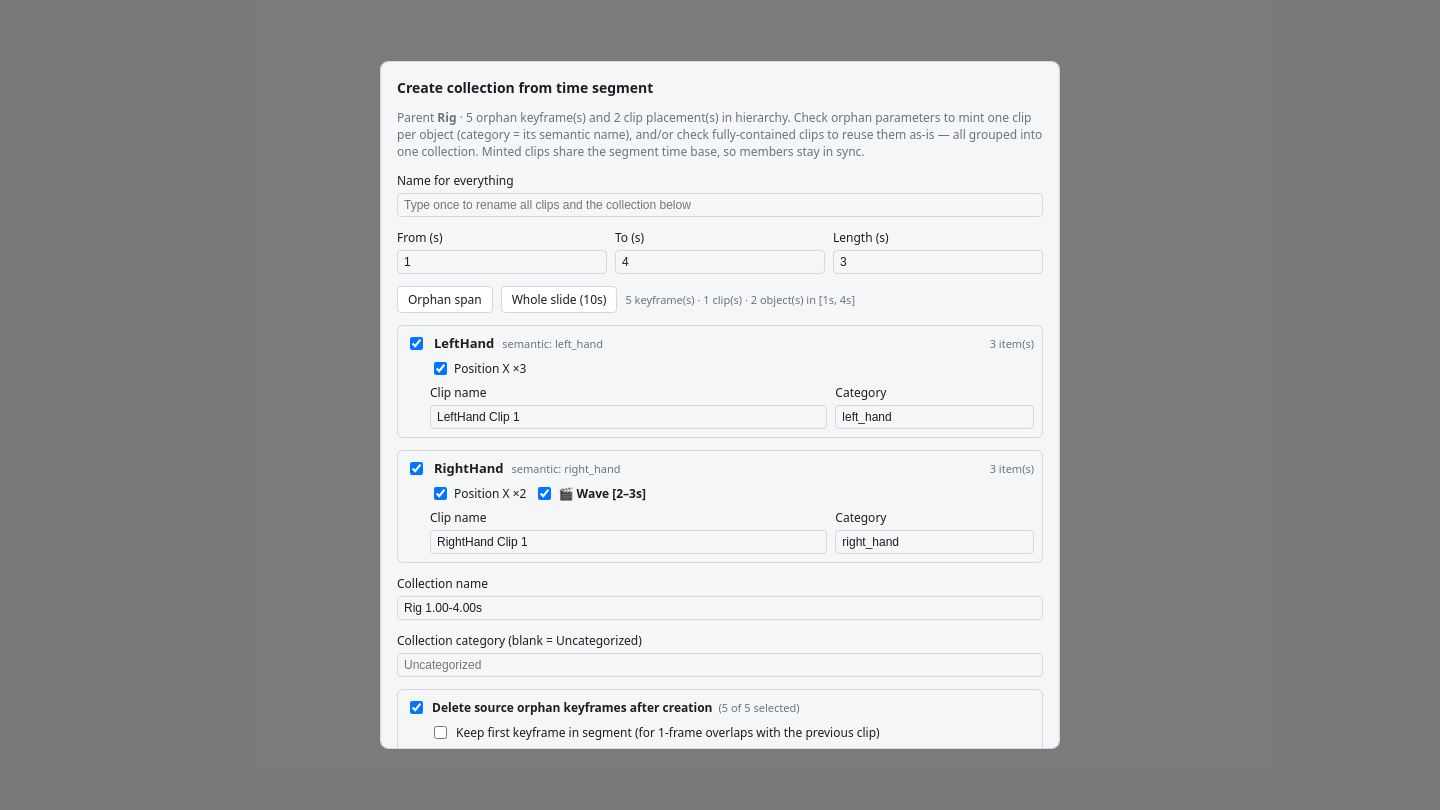
it: TimeSegmentToCollectionModal › blocks keyframes + clip on the same object with a conflict message
The width and height of the screenshot is (1440, 810).
Expected: the element with test id "segment-object-nB" is shown, left=397, top=450, right=1043, bottom=563
# resolving one side re-enables
Click the checkbox with test id "segment-param-nB-property:positionX". click: click(440, 493)
box: left=434, top=487, right=447, bottom=500
(page scrolled)
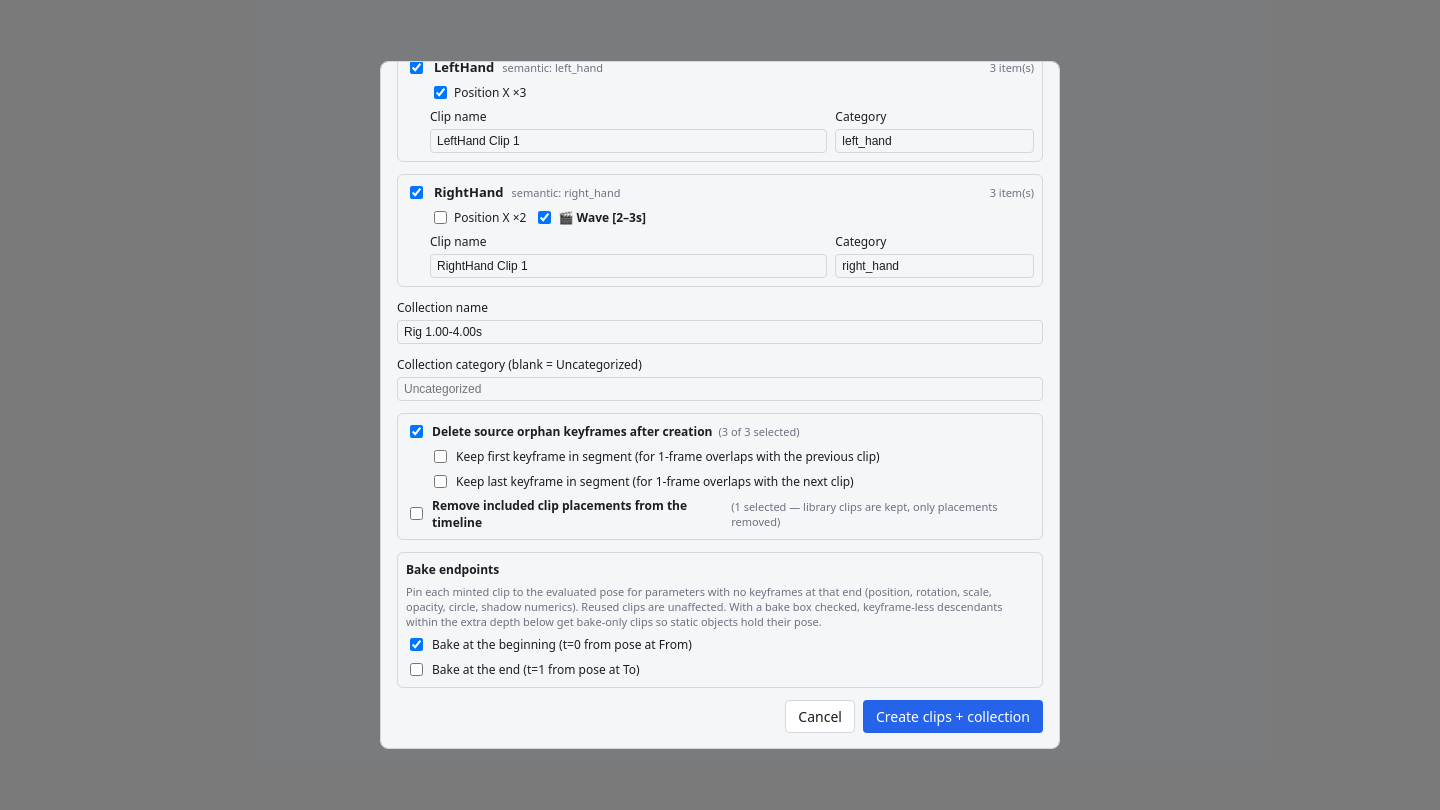
Result: the button with test id "segment-confirm" is enabled at left=863, top=700, right=1043, bottom=733
